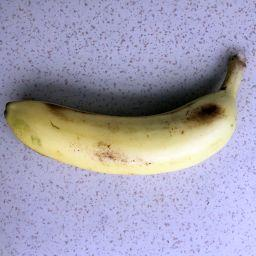Banana Ripe: (3, 50, 256, 207)
